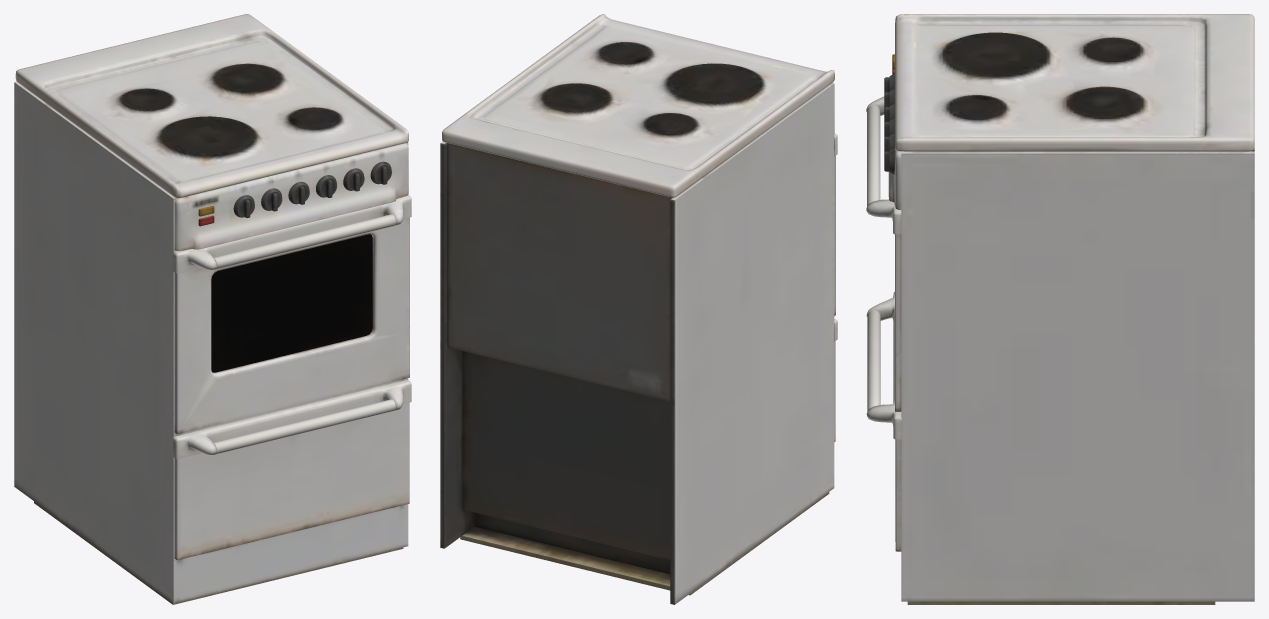
The model's file is kitchen.glb.
The picture shows the model from 3 angles, left to right: view 1: azimuth 30°, elevation 25°; view 2: azimuth 150°, elevation 25°; view 3: azimuth 270°, elevation 25°; orthographic projection. The views are drawn at different scales.
Parts seen in each view (by area): view 1: stovetop, door_top; view 2: stovetop; view 3: stovetop.
Part boxes in pixels (bbox=[...]): stovetop: bbox=[14, 14, 411, 604]; door_top: bbox=[211, 234, 372, 372]; stovetop: bbox=[440, 14, 837, 604]; stovetop: bbox=[866, 14, 1254, 604].
Bounding box in the file's own units: 0.5026 × 0.8587 × 0.6476.
Materials: 2 (2 with a texture image).
